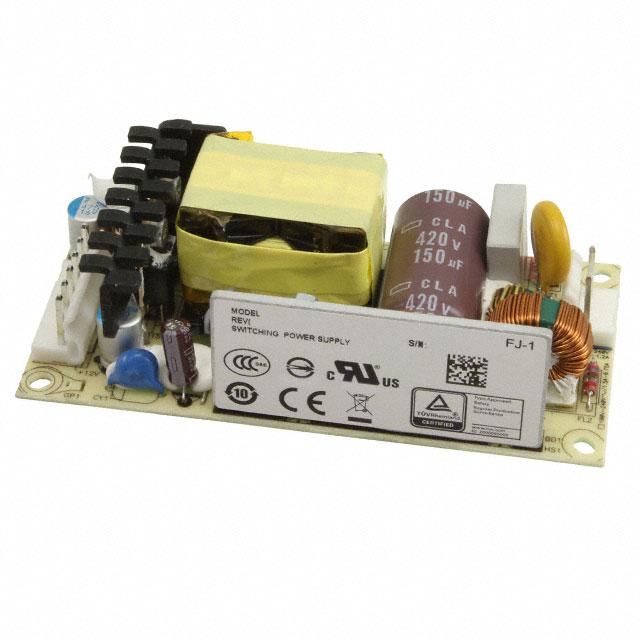capacitor: (378, 189, 490, 325), (161, 317, 197, 388)
resistor: (584, 362, 603, 393)
